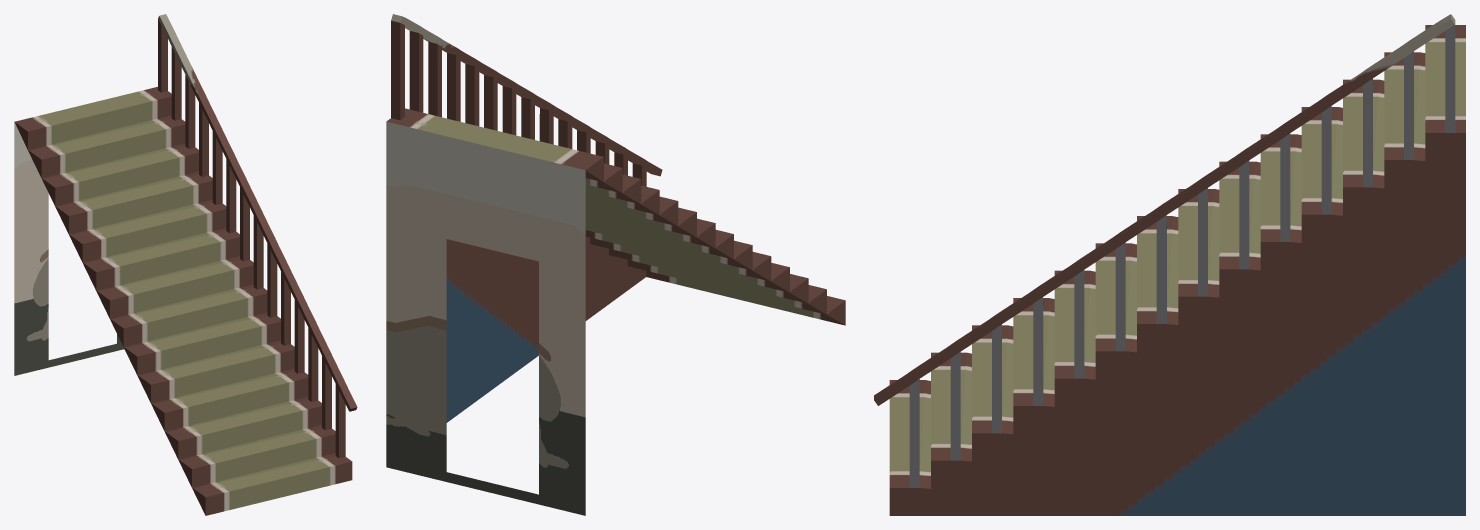
The model's file is M_StepsUp.fbx.
3 views of the same model, side by side, from view 1: azimuth 30°, elevation 25°; view 2: azimuth 150°, elevation 25°; view 3: azimuth 270°, elevation 25° (orthographic). The views are drawn at different scales.
Parts seen in each view (by area): view 1: Steps2; view 2: Steps2; view 3: Steps2.
Part boxes in pixels (x1,y1,x2,y2): Steps2: [14, 14, 357, 515]; Steps2: [386, 14, 845, 515]; Steps2: [874, 14, 1465, 515].
Size of the model in its own units: 174 by 374 by 403.
